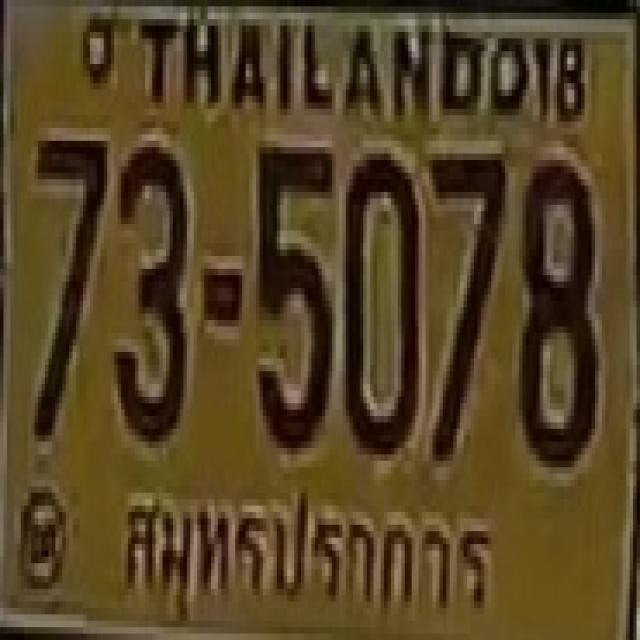0: (343, 147, 415, 448)
3: (111, 141, 183, 435)
5: (254, 138, 330, 444)
7: (429, 148, 502, 454), (34, 134, 104, 436)
8: (516, 154, 592, 460)
SPK: (104, 467, 505, 640)
